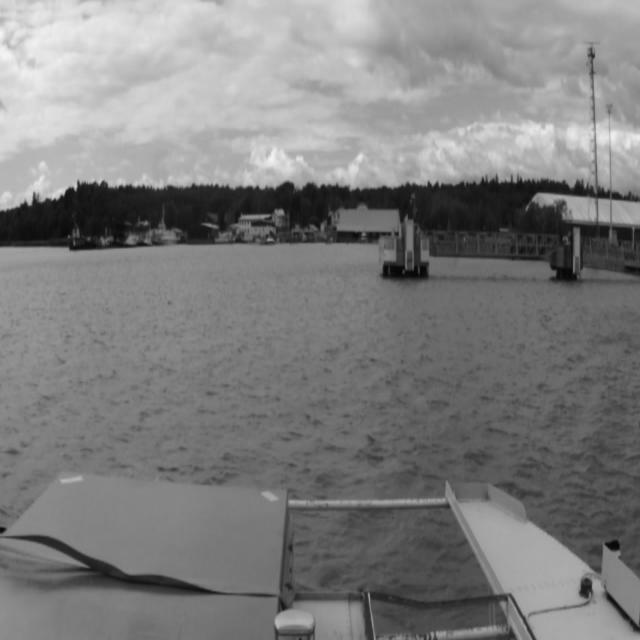ship: (153, 228, 184, 244), (120, 231, 137, 246)
